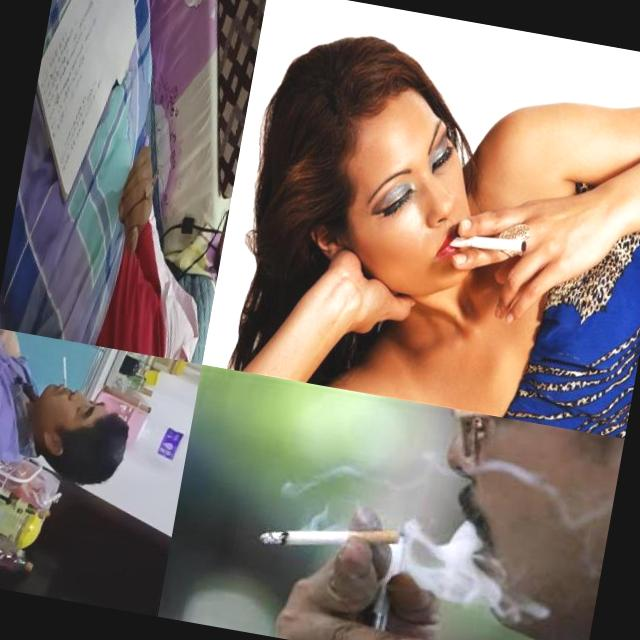cigarette: (258, 507, 400, 568), (448, 226, 528, 257), (139, 166, 160, 207), (58, 356, 70, 388)
